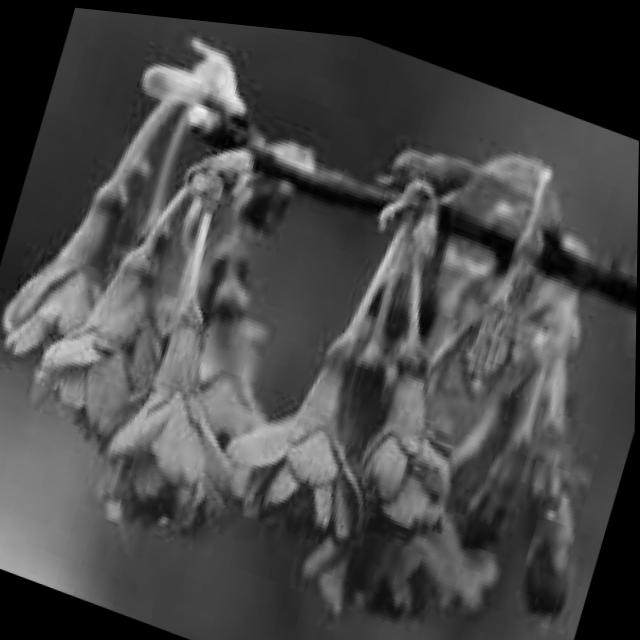Flower: (86, 166, 317, 559), (35, 117, 259, 460), (0, 50, 188, 398), (253, 226, 438, 566), (329, 248, 511, 541)
